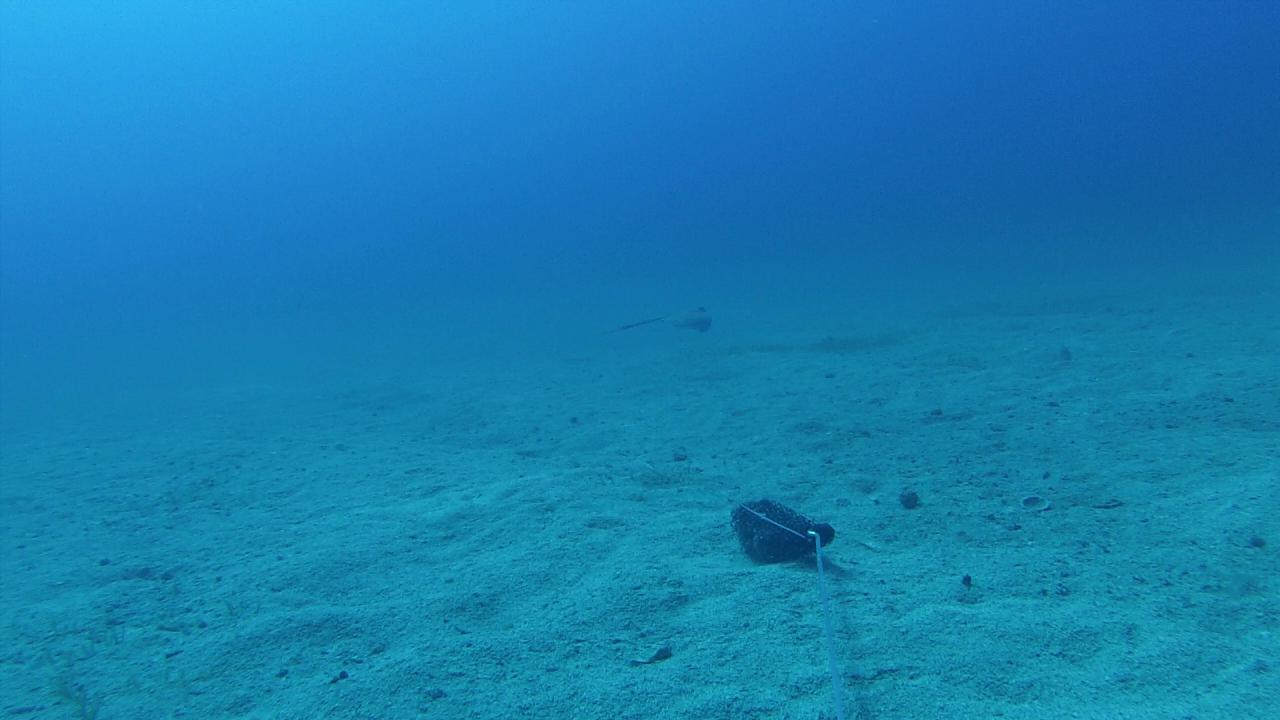dasyatis: (614, 304, 714, 334)
